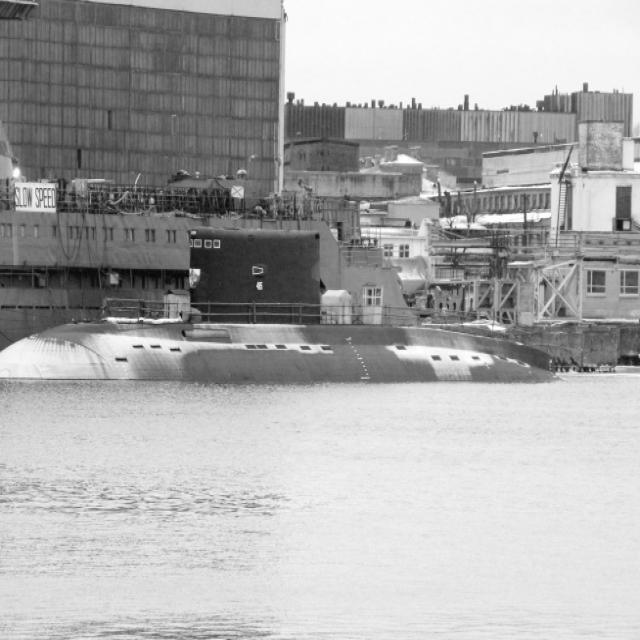submarine: (1, 224, 571, 384)
